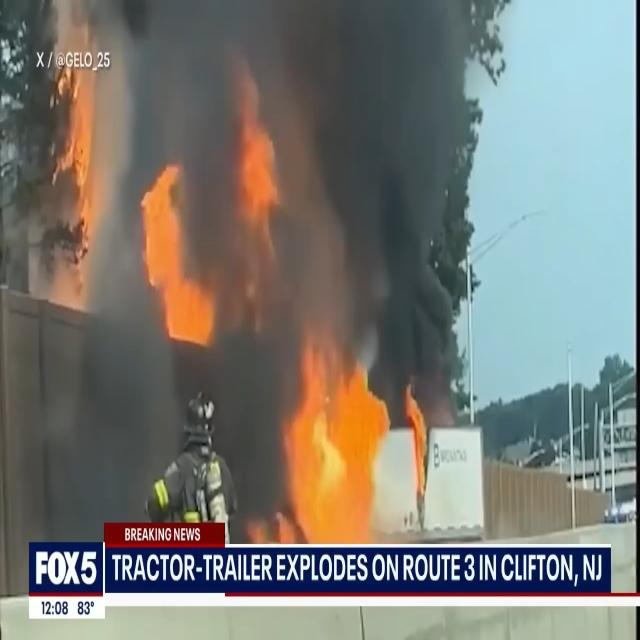fire: (276, 361, 400, 542), (130, 156, 228, 336), (58, 66, 130, 259), (243, 86, 283, 216)
